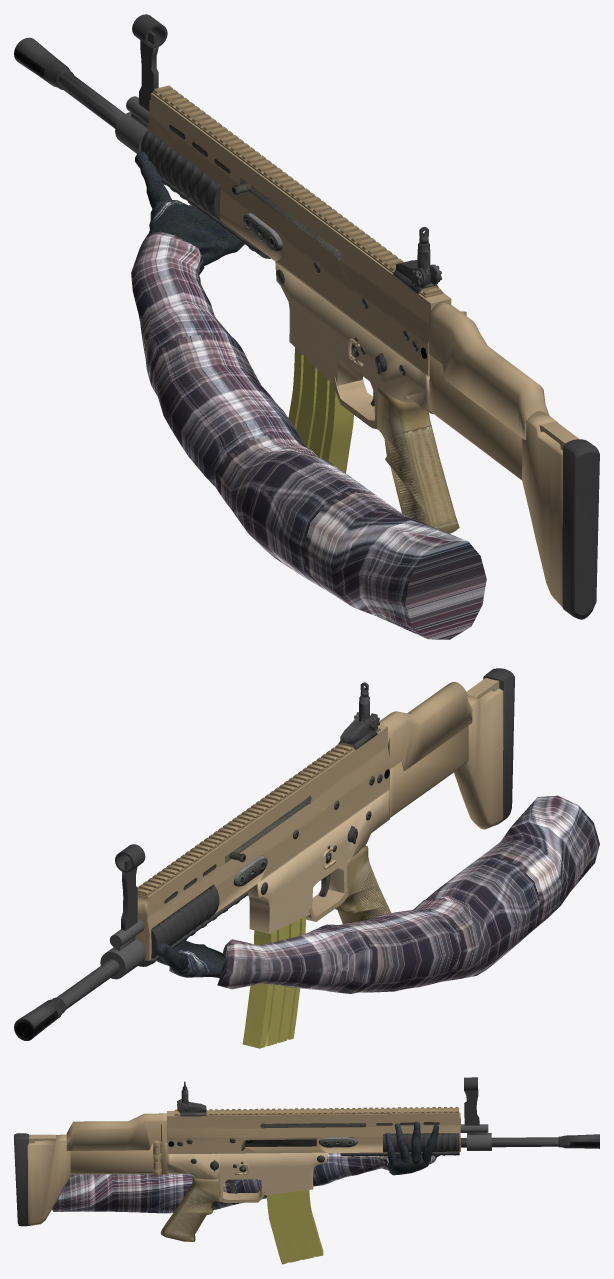
Rendered from scar_ads.fbx.
3 views of the same model, one above another, from view 1: azimuth 30°, elevation 25°; view 2: azimuth 150°, elevation 25°; view 3: azimuth 270°, elevation 25° (orthographic). The views are drawn at different scales.
Visible parts, largest first — view 1: larm, scar_upperbody, scar_frontstock, scar_lowerbody, scar_pistolgrip, scar_stockpad, scar_rearstock, scar_rail, scar_clip, scar_grip, lhand, scar_barrel (+6 smaller); view 2: larm, scar_upperbody, scar_frontstock, scar_lowerbody, scar_rearstock, scar_clip, scar_rail, scar_grip, scar_pistolgrip, scar_barrel, scar_stockpad, scar_barrelholder (+8 smaller); view 3: scar_upperbody, larm, scar_frontstock, scar_lowerbody, scar_rearstock, scar_clip, scar_pistolgrip, scar_rail, scar_barrel, scar_grip, scar_stockpad, scar_bolt (+10 smaller).
Boxes of the visible parts, <box> form: larm: <box>131,231,486,639</box>; scar_upperbody: <box>147,93,451,376</box>; scar_frontstock: <box>429,301,549,479</box>; scar_lowerbody: <box>275,261,433,429</box>; scar_pistolgrip: <box>377,387,459,533</box>; scar_stockpad: <box>562,439,599,619</box>; scar_rearstock: <box>522,414,579,606</box>; scar_rail: <box>152,85,443,297</box>; scar_clip: <box>288,347,353,473</box>; scar_grip: <box>140,130,270,258</box>; lhand: <box>149,200,244,265</box>; scar_barrel: <box>14,37,124,128</box>; larm: <box>217,795,599,993</box>; scar_upperbody: <box>135,724,390,960</box>; scar_frontstock: <box>379,682,472,817</box>; scar_lowerbody: <box>246,788,389,933</box>; scar_rearstock: <box>454,677,503,829</box>; scar_clip: <box>242,916,305,1048</box>; scar_rail: <box>137,726,380,896</box>; scar_grip: <box>138,884,248,966</box>; scar_pistolgrip: <box>335,845,391,923</box>; scar_barrel: <box>14,944,144,1040</box>; scar_stockpad: <box>483,668,514,825</box>; scar_barrelholder: <box>100,919,145,979</box>; scar_upperbody: <box>167,1108,460,1154</box>; larm: <box>52,1153,396,1213</box>; scar_frontstock: <box>66,1113,167,1174</box>; scar_lowerbody: <box>167,1152,327,1201</box>; scar_rearstock: <box>27,1134,70,1225</box>; scar_clip: <box>266,1190,323,1264</box>; scar_pistolgrip: <box>160,1176,218,1241</box>; scar_rail: <box>174,1107,458,1115</box>; scar_barrel: <box>460,1134,599,1148</box>; scar_grip: <box>341,1133,459,1156</box>; scar_stockpad: <box>14,1133,30,1226</box>; scar_bolt: <box>245,1123,365,1146</box>.
Bounding box in the file's own units: 8.97 × 14.5 × 41.86.
Materials: 5 (5 with a texture image).
